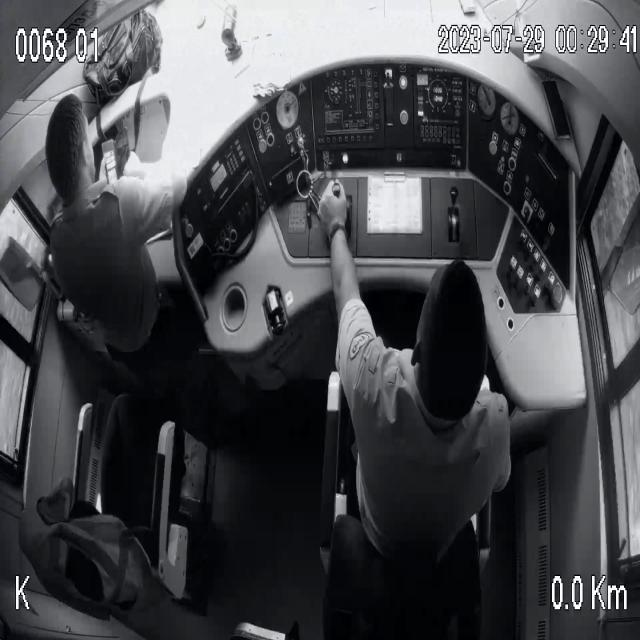smartphone: (100, 128, 134, 183)
